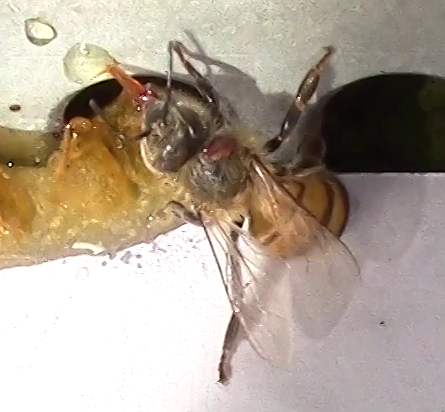Varroa destructor: (202, 133, 241, 161)
